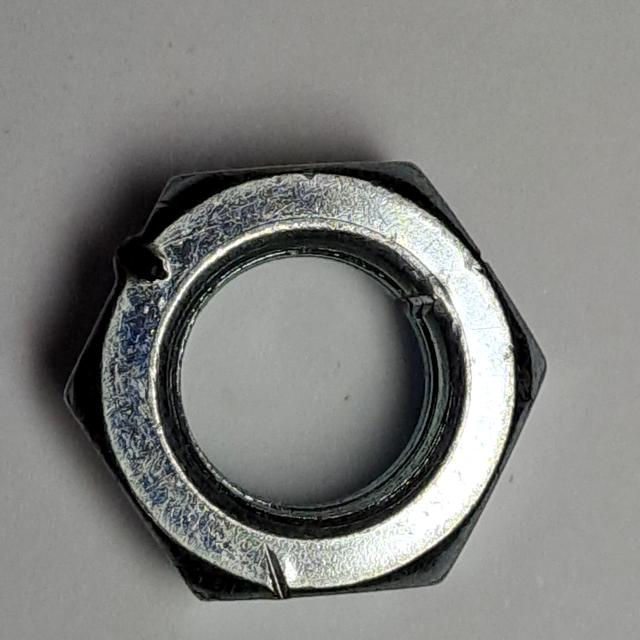Scratches: (53, 141, 558, 621)
